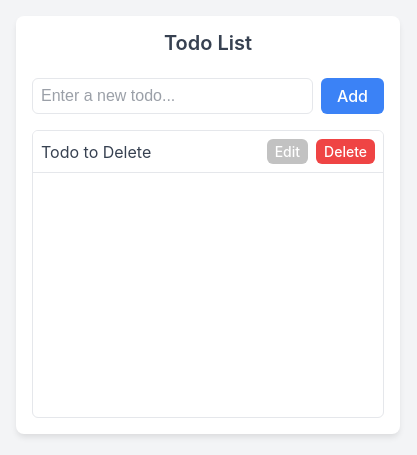
Test: TodoList Component › deletes a todo
The image size is (417, 455).
Expected: the text "Todo to Delete" is shown, [41,142,151,162]
Click the button "Delete" at (346, 152), box [316,139,375,164]
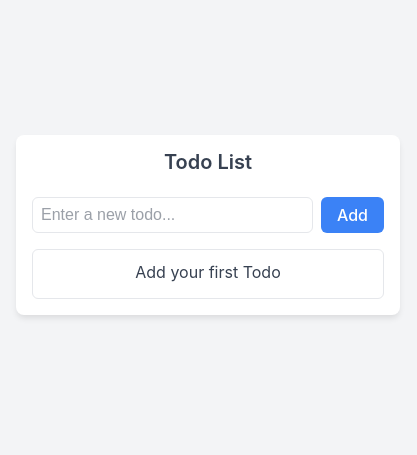
Now the text "Todo to Delete" is gone
